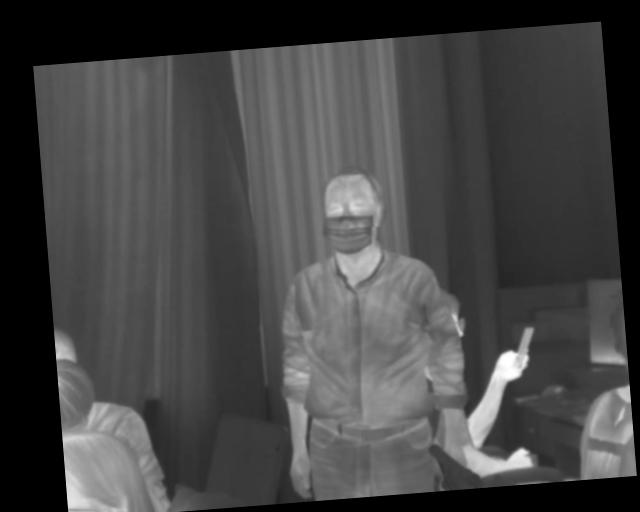face: (317, 164, 388, 256)
